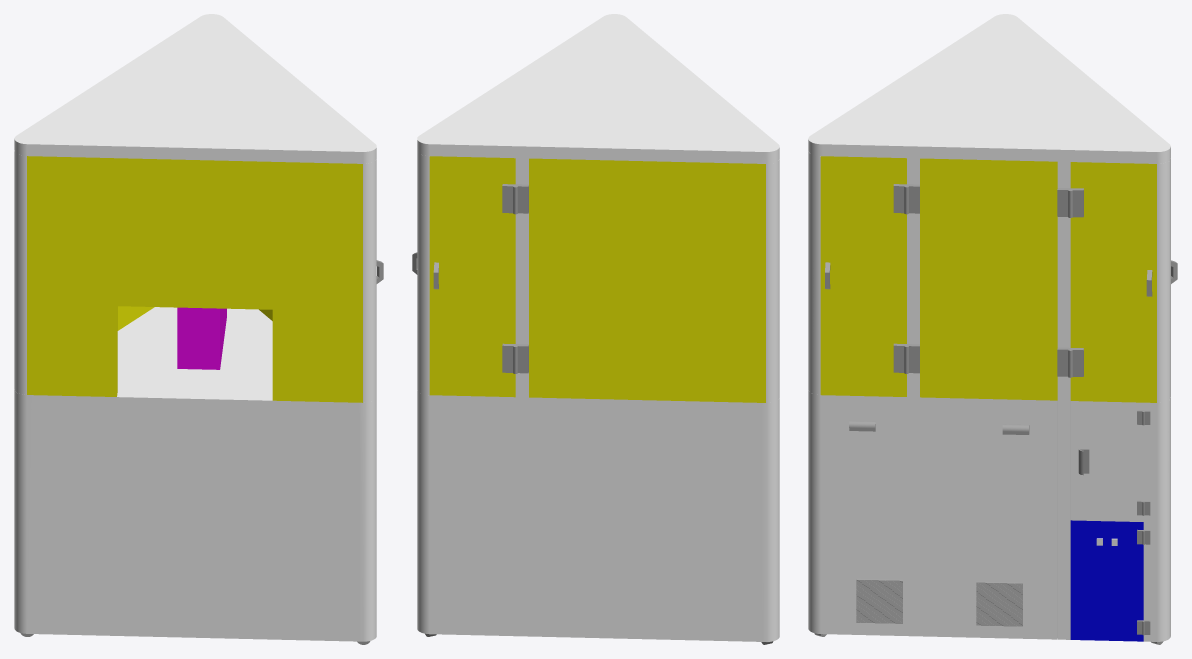
Rendered from Laser Making Triangle.fbx.
3 views of the same model, side by side, from view 1: azimuth 30°, elevation 25°; view 2: azimuth 150°, elevation 25°; view 3: azimuth 270°, elevation 25° (orthographic).
Parts seen in each view (by area): view 1: Body_269, Body_259, Body_270, Body_232, Body_238, Body_1; view 2: Body_269, Body_200, Body_270, Body_203, Body_238, Body_235, Body_239, Body_265, Body_264; view 3: Body_269, Body_213, Body_270, Body_206, Body_210, Body_267, Body_266, Body_235, Body_232, Body_275, Body_268, Body_272 (+5 smaller).
Boxes of the visible parts, left/top/right/bottom form: Body_269: left=14, top=307, right=376, bottom=641; Body_259: left=27, top=156, right=362, bottom=402; Body_270: left=14, top=14, right=376, bottom=163; Body_232: left=363, top=160, right=376, bottom=402; Body_238: left=14, top=151, right=26, bottom=394; Body_1: left=177, top=307, right=226, bottom=369; Body_269: left=417, top=391, right=779, bottom=641; Body_200: left=529, top=158, right=765, bottom=402; Body_270: left=417, top=14, right=779, bottom=163; Body_203: left=429, top=156, right=515, bottom=397; Body_238: left=766, top=160, right=779, bottom=402; Body_235: left=417, top=152, right=429, bottom=395; Body_239: left=515, top=158, right=528, bottom=397; Body_265: left=502, top=184, right=528, bottom=214; Body_264: left=502, top=343, right=528, bottom=373; Body_269: left=808, top=390, right=1170, bottom=641; Body_213: left=920, top=158, right=1057, bottom=400; Body_270: left=808, top=14, right=1170, bottom=163; Body_206: left=820, top=156, right=906, bottom=396; Body_210: left=1070, top=162, right=1156, bottom=402; Body_267: left=1070, top=520, right=1143, bottom=641; Body_266: left=1070, top=401, right=1143, bottom=521; Body_235: left=1157, top=159, right=1170, bottom=402; Body_232: left=808, top=151, right=820, bottom=394; Body_275: left=1058, top=400, right=1070, bottom=639; Body_268: left=1143, top=402, right=1156, bottom=641; Body_272: left=1057, top=161, right=1070, bottom=400.
Bounding box in the file's own units: 128 × 208 × 140.
